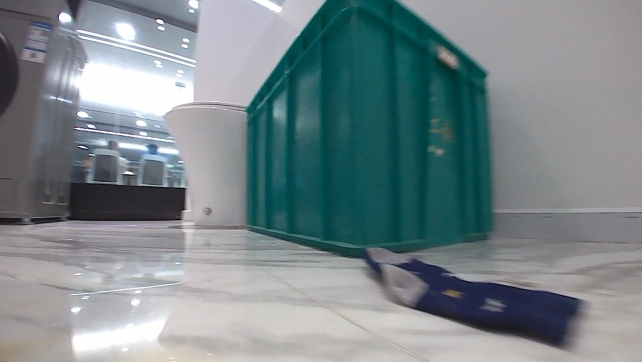socks: (359, 241, 586, 350)
toilet: (161, 97, 251, 228)
washing_machine1: (0, 0, 91, 226)
